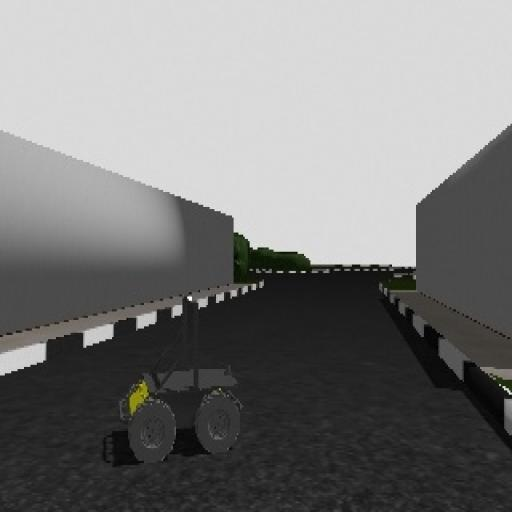huskya200: (109, 292, 250, 464)
